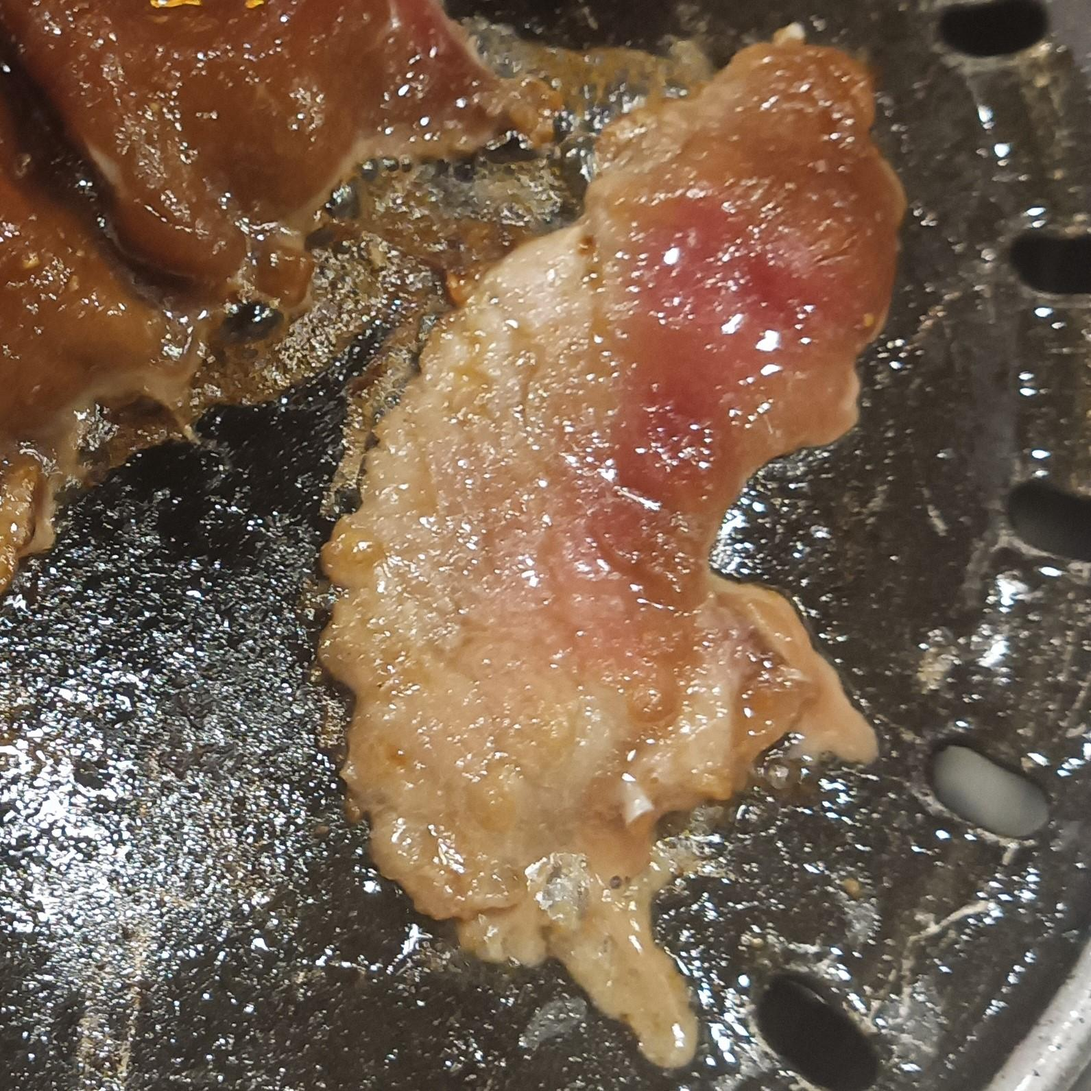Undercooked: (304, 30, 909, 1082), (0, 0, 513, 383), (0, 16, 243, 604)
